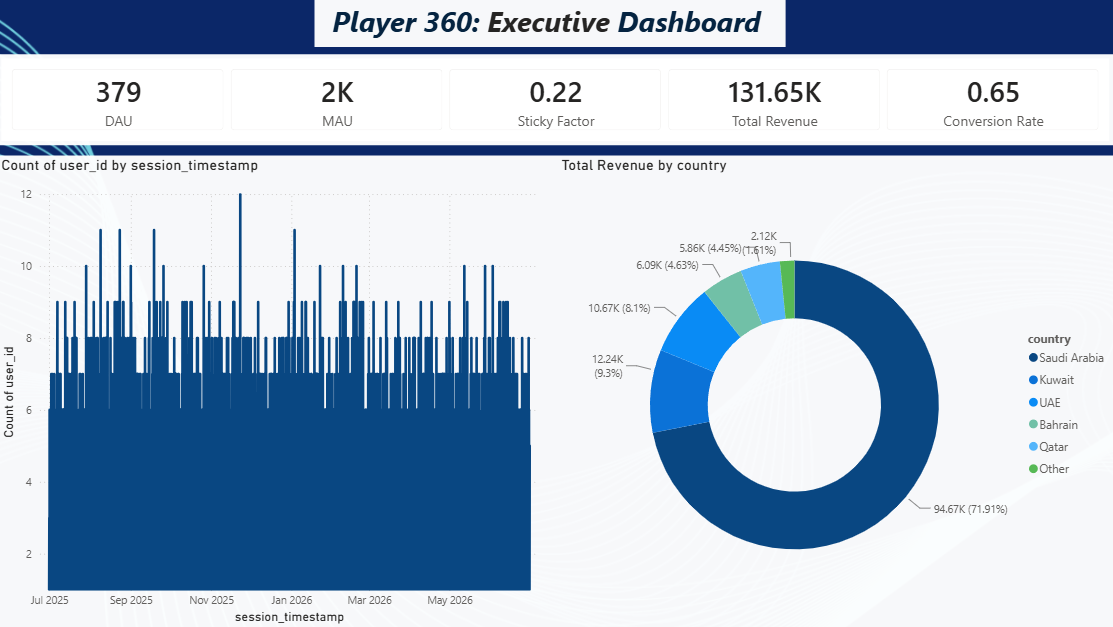

This screenshot's page, from the dashboard's own definition file:
{"tool":"powerbi","page":{"name":"Executive Summary","canvas":[1280,720],"ordinal":0},"visuals":[{"type":"textbox","box":[362.5,0,538.8,56.2],"z":0},{"type":"cardVisual","fields":{"Data":["_Measures.DAU","_Measures.MAU","_Measures.Sticky Factor","_Measures.Total Revenue","_Measures.Conversion Rate"]},"box":[0,64.7,1280,104.3],"z":1000},{"type":"lineChart","fields":{"Category":["fact_sessions.session_timestamp"],"Y":["CountNonNull(fact_sessions.user_id)"]},"box":[0,180,640,540],"z":2000},{"type":"donutChart","fields":{"Category":["dim_users.country"],"Y":["_Measures.Total Revenue"]},"box":[640,180,640,540],"z":3000}]}

Visuals, with their boxes in screenshot pixels (x1, y1, x2, y2), scaled from the page's 1280x720 canvas onto the 1113x627 screenshot:
textbox: rect(315, 0, 784, 49)
cardVisual - _Measures.DAU x _Measures.MAU: rect(0, 56, 1112, 147)
lineChart - fact_sessions.session_timestamp x CountNonNull(fact_sessions.user_id): rect(0, 157, 556, 626)
donutChart - dim_users.country x _Measures.Total Revenue: rect(556, 157, 1112, 626)
